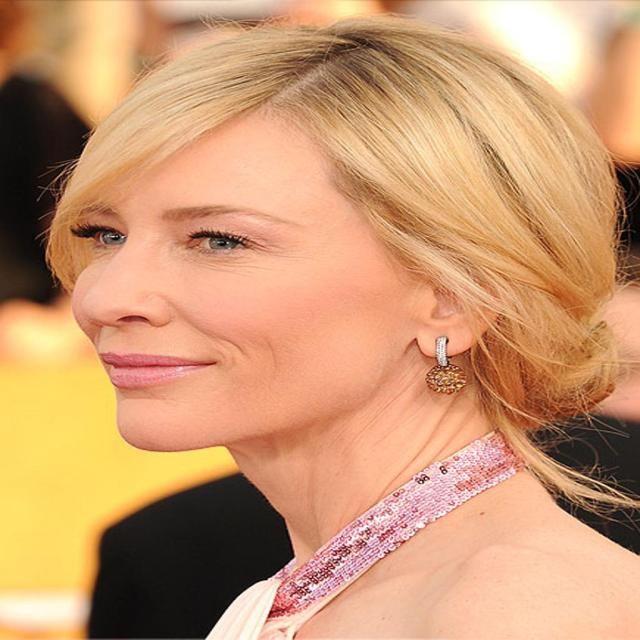Face: (39, 111, 422, 449)
